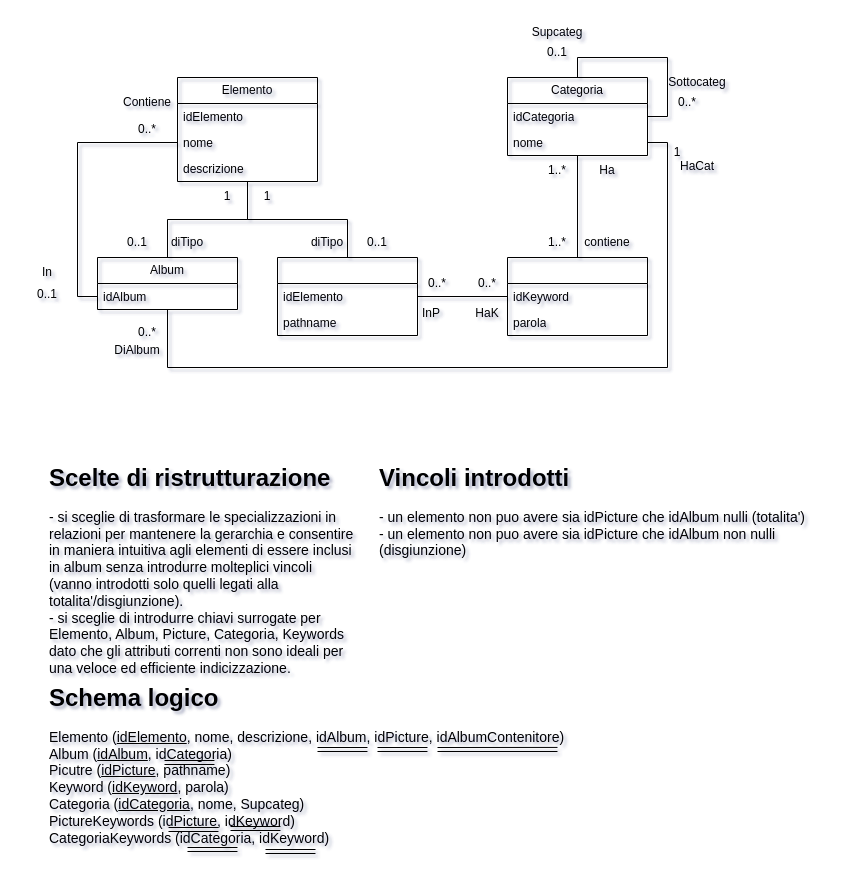
This 860x893 diagram has some shape labels left out. The shapes that lost their labels are listed below. From the top down, each one's box as (x1, y1, x2, y2) in pixels, then its label:
(276, 256, 418, 336): Picture
(506, 256, 648, 336): Keywords
